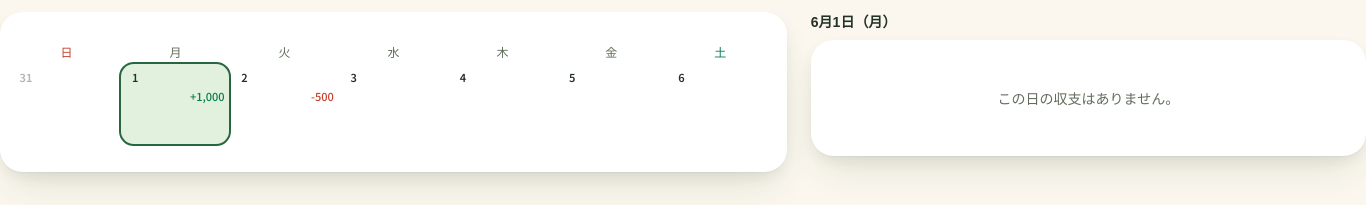
Test case: CalendarBoard › 日をクリックするとその日の明細を表示する
Click the button "2 -500" at (284, 104), box top-left (230, 64), bottom-right (338, 144)
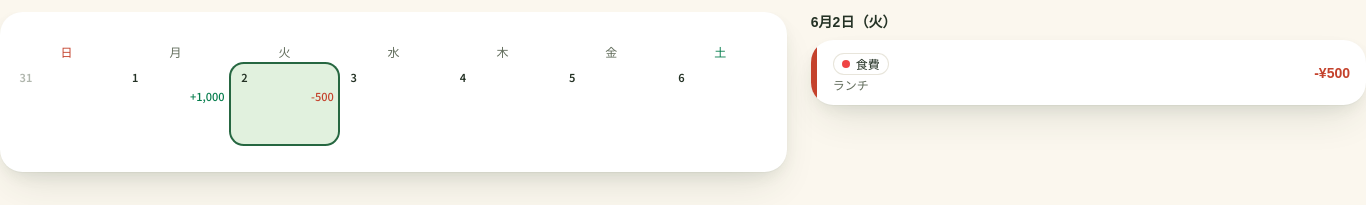
Expected: the text "ランチ" is shown, top-left (833, 76), bottom-right (869, 93)
Expected: the text "食費" is shown, top-left (833, 53), bottom-right (889, 75)
